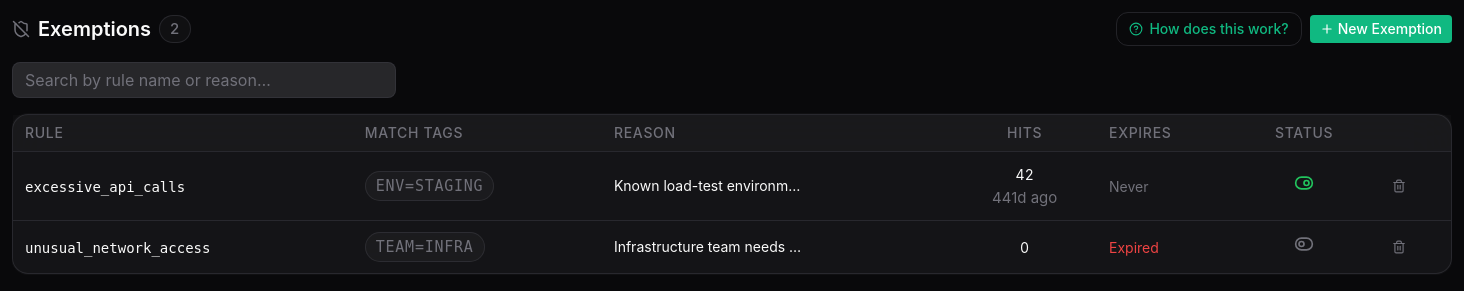
ExemptionsPage › shows delete confirmation
Click the button named "Delete exemption excessive_api_calls": {"x": 1399, "y": 186} [1383, 170, 1415, 202]
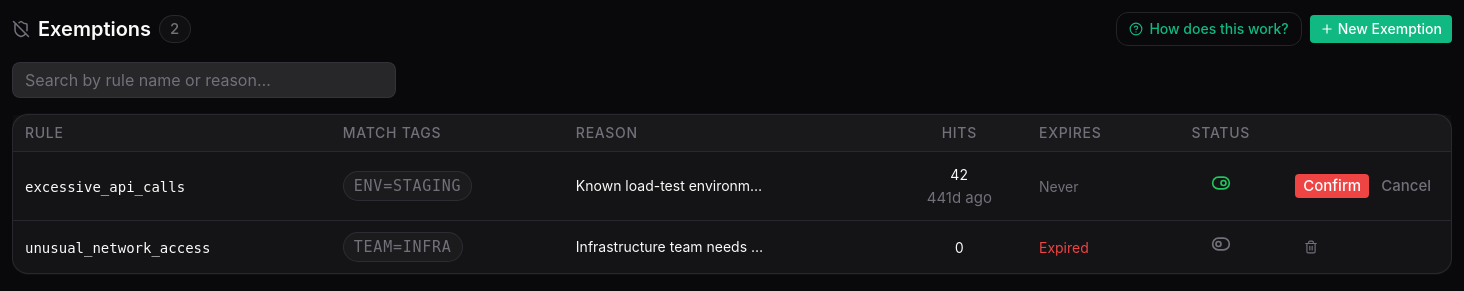
Now the button "Confirm" is shown, box [1295, 174, 1369, 198]
Now the button "Cancel" is shown, box [1373, 174, 1439, 198]
